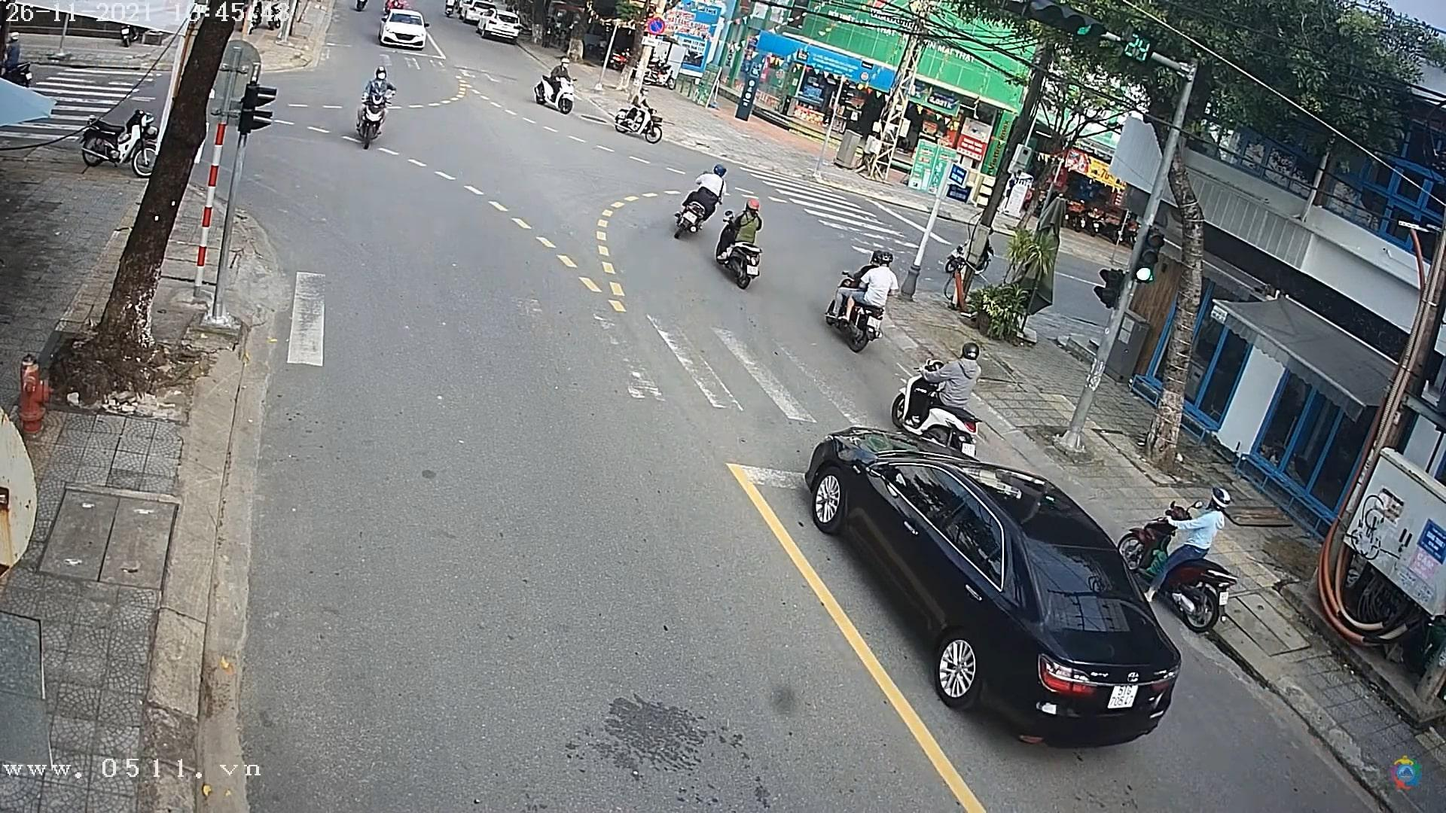car: (803, 421, 1184, 745), (377, 11, 430, 50)
motorbike: (1118, 501, 1238, 631), (894, 376, 980, 462), (824, 290, 888, 353), (671, 180, 720, 243), (355, 86, 392, 151), (712, 245, 761, 291), (612, 102, 662, 144), (532, 72, 577, 115), (1178, 754, 1188, 755)
